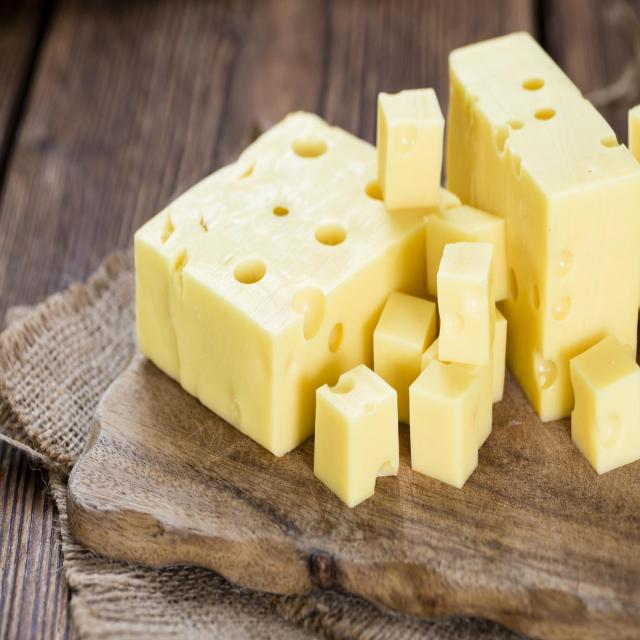Cheese: (304, 351, 411, 511), (433, 222, 498, 374), (378, 94, 442, 208)
